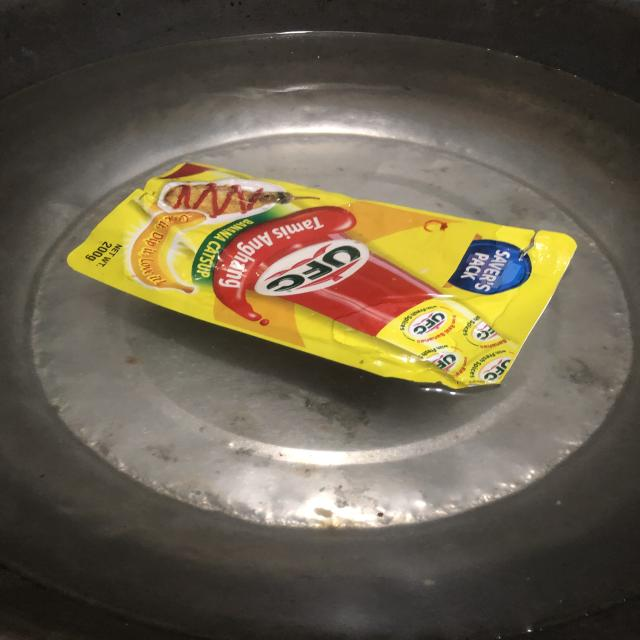Plastic Pouch: (60, 164, 580, 406)
